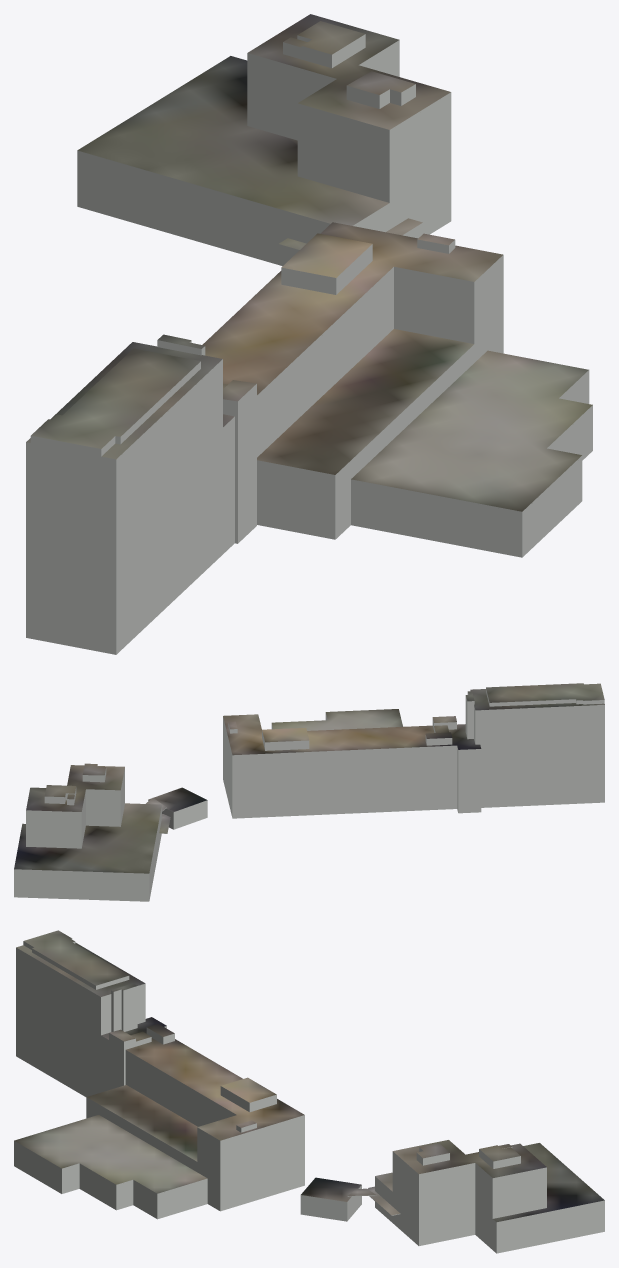
Rendered from LSZH_3_-4.glb.
3 views of the same model, one above another, from view 1: azimuth 30°, elevation 25°; view 2: azimuth 150°, elevation 25°; view 3: azimuth 270°, elevation 25° (orthographic). The views are drawn at different scales.
Parts seen in each view (by area): view 1: building_f121ae08f277b5fd, building_d8404e64232efad9, building_3bd45c5641260257, building_7037dd97e1ce97ea; view 2: building_f121ae08f277b5fd, building_d8404e64232efad9, building_7037dd97e1ce97ea, building_3bd45c5641260257; view 3: building_f121ae08f277b5fd, building_d8404e64232efad9, building_3bd45c5641260257, building_7037dd97e1ce97ea.
Part boxes in pixels (<box>): building_f121ae08f277b5fd: <box>26,240,592,654</box>; building_d8404e64232efad9: <box>26,222,592,512</box>; building_3bd45c5641260257: <box>77,35,451,265</box>; building_7037dd97e1ce97ea: <box>77,14,451,250</box>; building_f121ae08f277b5fd: <box>223,689,604,818</box>; building_d8404e64232efad9: <box>223,683,604,755</box>; building_7037dd97e1ce97ea: <box>14,763,207,873</box>; building_3bd45c5641260257: <box>14,766,207,901</box>; building_f121ae08f277b5fd: <box>14,939,304,1219</box>; building_d8404e64232efad9: <box>14,930,304,1194</box>; building_3bd45c5641260257: <box>300,1147,604,1253</box>; building_7037dd97e1ce97ea: <box>301,1140,604,1222</box>.
Size of the model in its own units: 178 by 44.96 by 212.
2 materials, 1 textured.
